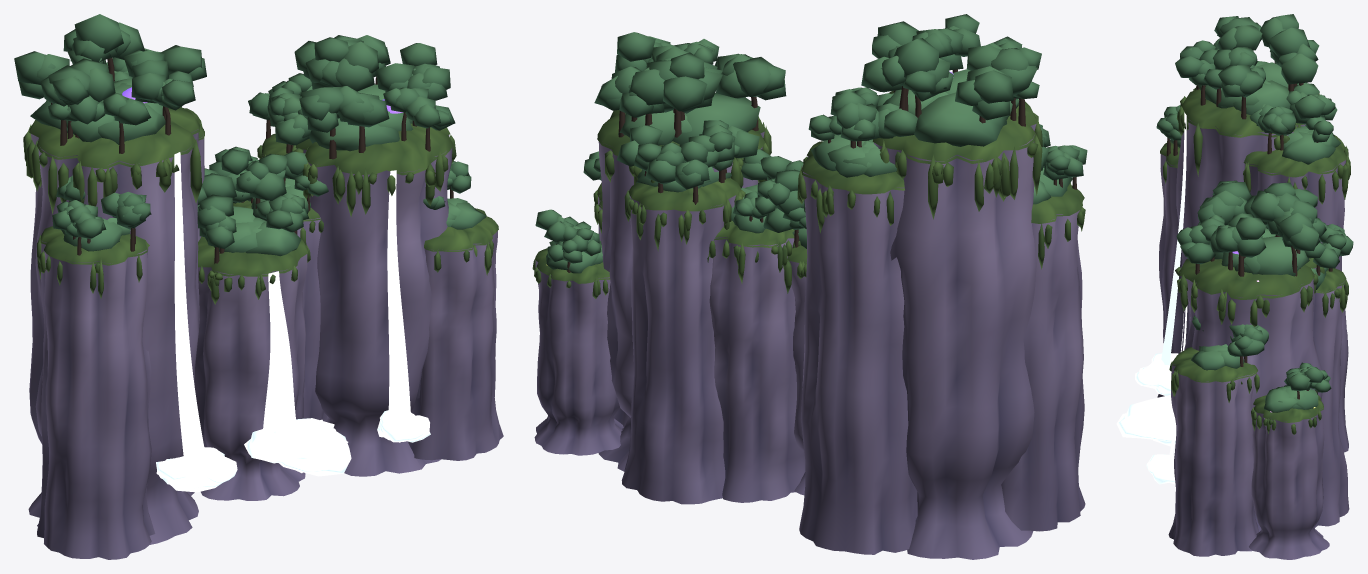
The model's file is massif.glb.
3 renders of one model, left to right at view 1: azimuth 30°, elevation 25°; view 2: azimuth 150°, elevation 25°; view 3: azimuth 270°, elevation 25°, orthographic. The views are drawn at different scales.
Parts seen in each view (by area): view 1: hero_valley_rock, hero_valley_leaf, hero_valley_moss, valley_falls, valley_spray, hero_valley_bark; view 2: hero_valley_rock, hero_valley_leaf, hero_valley_moss, hero_valley_bark; view 3: hero_valley_rock, hero_valley_leaf, hero_valley_moss, valley_spray, valley_falls, hero_valley_bark.
Part boxes in pixels (x1=…): hero_valley_rock: x1=28, y1=123, x2=503, y2=559; hero_valley_leaf: x1=14, y1=14, x2=486, y2=256; hero_valley_moss: x1=23, y1=107, x2=498, y2=304; valley_falls: x1=174, y1=152, x2=411, y2=463; valley_spray: x1=156, y1=410, x2=430, y2=492; hero_valley_bark: x1=51, y1=58, x2=453, y2=263; hero_valley_rock: x1=534, y1=124, x2=1085, y2=559; hero_valley_leaf: x1=535, y1=14, x2=1087, y2=273; hero_valley_moss: x1=532, y1=91, x2=1085, y2=298; hero_valley_bark: x1=556, y1=69, x2=1076, y2=272; hero_valley_rock: x1=1157, y1=116, x2=1349, y2=559; hero_valley_leaf: x1=1156, y1=14, x2=1353, y2=412; hero_valley_moss: x1=1160, y1=86, x2=1350, y2=434; valley_spray: x1=1116, y1=353, x2=1178, y2=484; valley_falls: x1=1161, y1=112, x2=1187, y2=463; hero_valley_bark: x1=1166, y1=61, x2=1332, y2=399.
Size of the model in its own units: 314 by 304 by 163.
